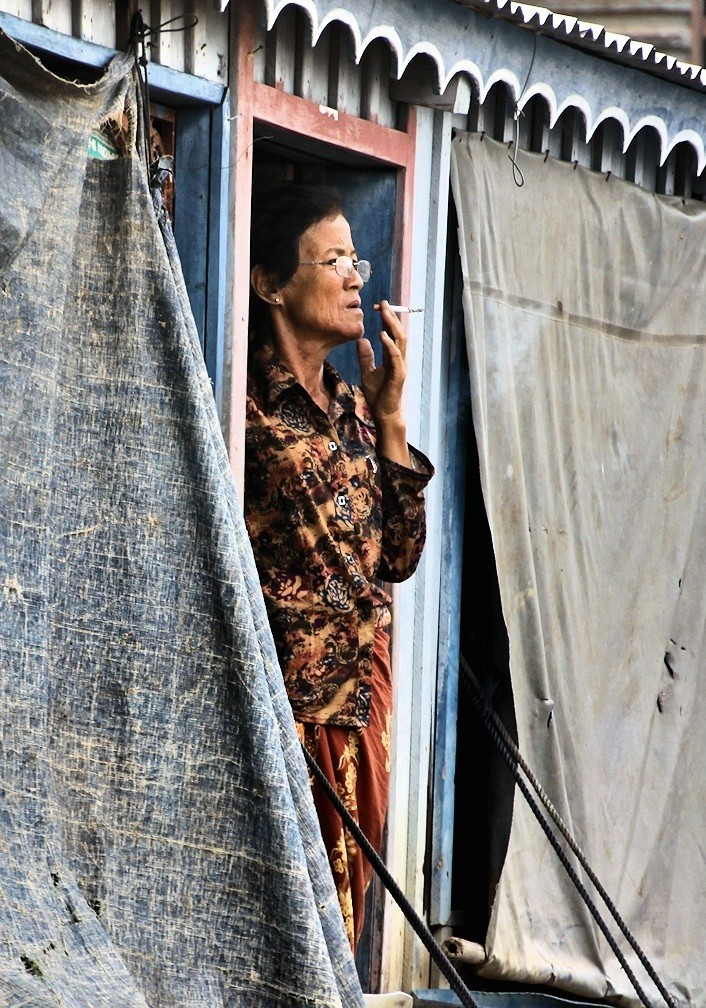face_no_mask: (248, 187, 382, 350)
